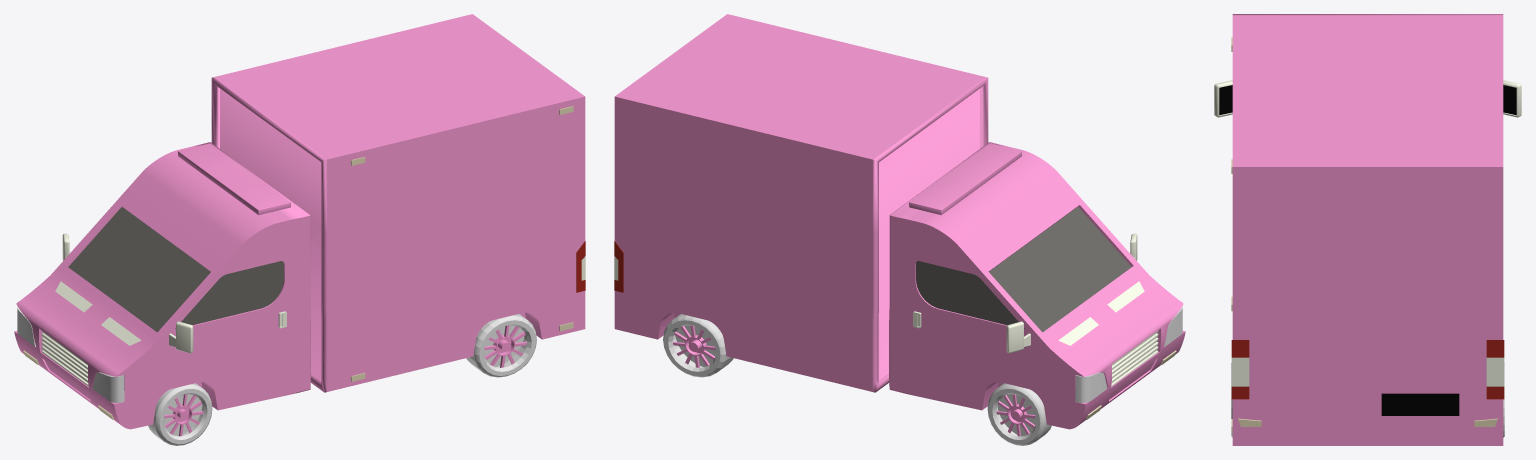
3 views of the same model, side by side, from view 1: azimuth 30°, elevation 25°; view 2: azimuth 150°, elevation 25°; view 3: azimuth 270°, elevation 25° (orthographic). The views are drawn at different scales.
Parts seen in each view (by area): view 1: car1.003; view 2: car1.003; view 3: car1.003.
Part boxes in pixels (box(x1,y1,x2,y2)): car1.003: box(14, 14, 585, 445); car1.003: box(614, 14, 1185, 445); car1.003: box(1214, 14, 1521, 445).
Bounding box in the file's own units: 635 × 341 × 302.
